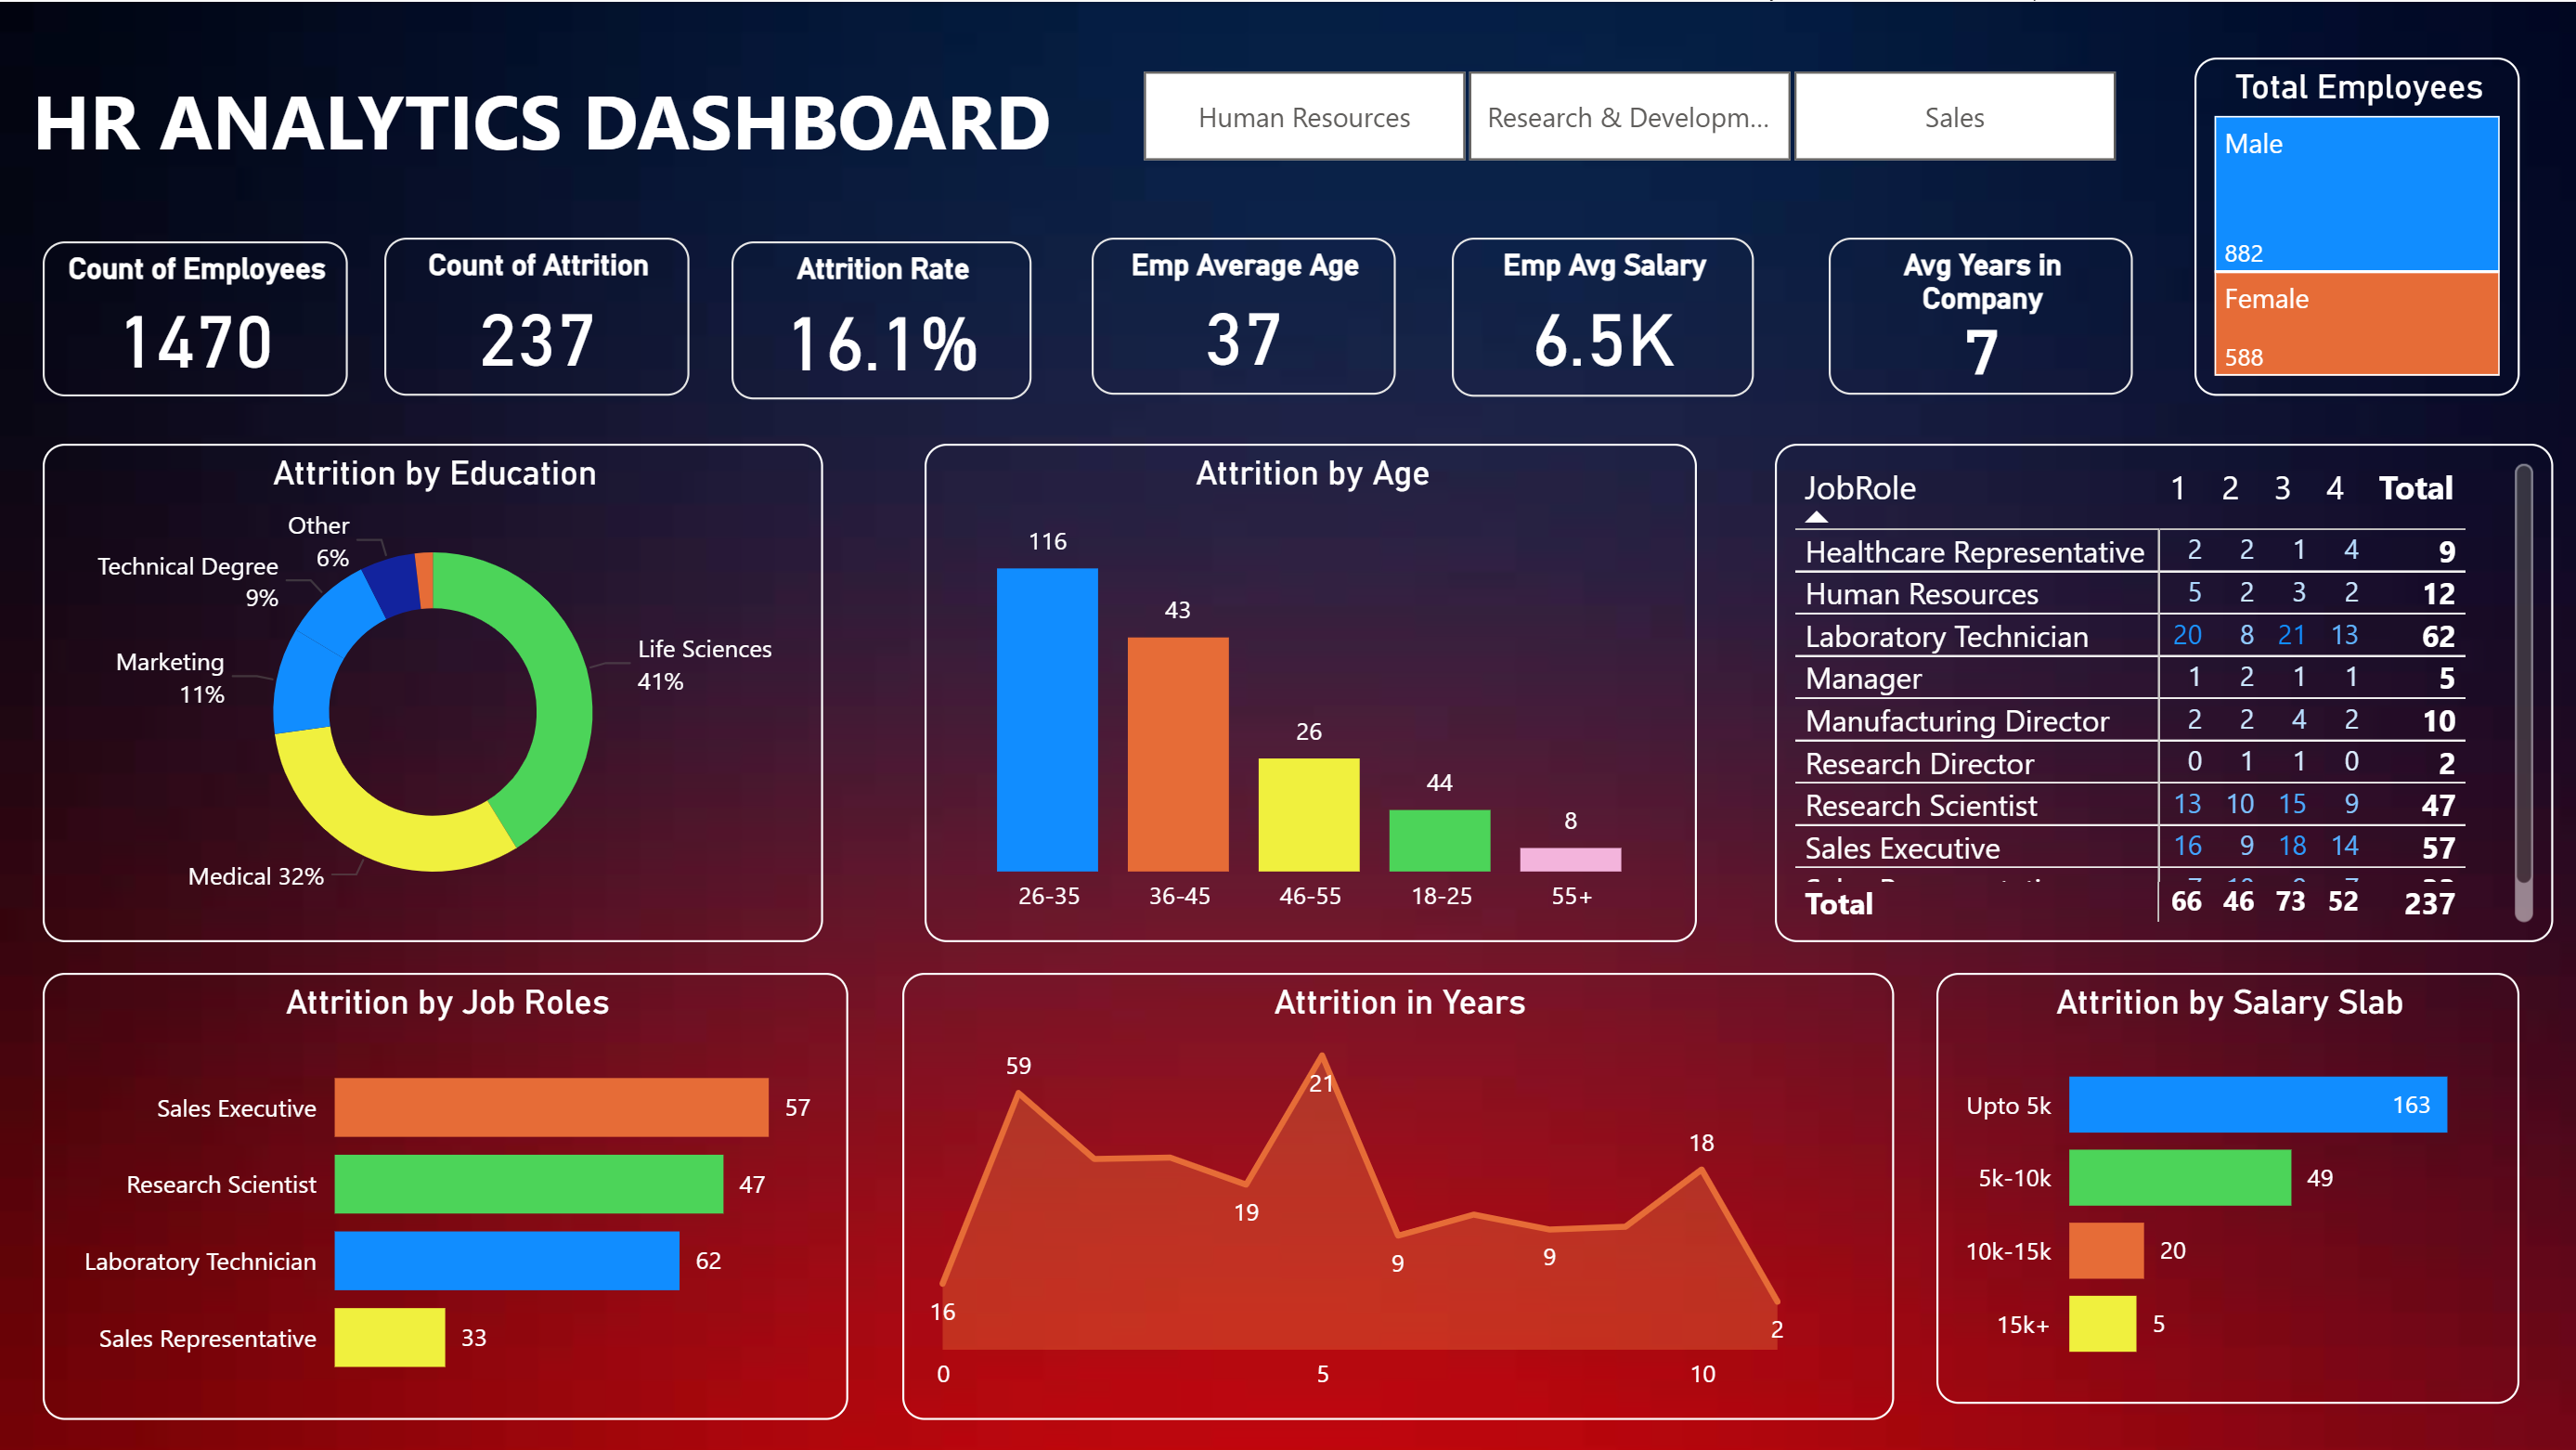

The page's visual inventory and layout, read from the dashboard file:
{"tool":"powerbi","page":{"name":"dashboard","canvas":[1280,720],"ordinal":0},"visuals":[{"type":"card","title":"Count of Employees","fields":{"Values":["CountNonNull(HR-Anlytics.EmpID)"]},"box":[21.5,118.7,151.5,77],"z":0},{"type":"card","title":"Count of Attrition","fields":{"Values":["Sum(HR_Analytics.AttritionCount)"]},"box":[190.6,117.4,151.5,78.3],"z":1000},{"type":"card","title":"Attrition Rate","fields":{"Values":["HR_Analytics.AttritionRate"]},"box":[363.6,118.7,149,78.3],"z":2000},{"type":"card","title":"Emp Average Age","fields":{"Values":["Avg(HR_Analytics.Age)"]},"box":[541.9,117,150.8,78],"z":3000},{"type":"card","title":"Emp Avg Salary","fields":{"Values":["Avg(HR_Analytics.MonthlyIncome)"]},"box":[720.7,117.2,150.1,79.2],"z":4000},{"type":"card","title":"Avg Years in Company","fields":{"Values":["Avg(HR_Analytics.YearsAtCompany)"]},"box":[907.8,117.2,151.1,78.1],"z":5000},{"type":"donutChart","title":"Attrition by Education","fields":{"Category":["HR_Analytics.EducationField"],"Y":["CountNonNull(HR_Analytics.AttritionCount)"]},"box":[21.5,219.6,387.5,247.4],"z":6000},{"type":"columnChart","title":"Attrition by Age","fields":{"Category":["HR_Analytics.AgeGroup"],"Y":["CountNonNull(HR_Analytics.AttritionCount)"]},"box":[459.5,219.6,383.7,247.4],"z":7000},{"type":"pivotTable","fields":{"Rows":["HR_Analytics.JobRole"],"Columns":["HR_Analytics.JobSatisfaction"],"Values":["Sum(HR_Analytics.AttritionCount)"]},"box":[881.1,219.6,386.3,247.4],"z":8000},{"type":"barChart","title":"Attrition by Salary Slab","fields":{"Category":["HR_Analytics.SalarySlab"],"Y":["CountNonNull(HR_Analytics.AttritionCount)"]},"box":[961.5,482.2,289.5,213.9],"z":9000},{"type":"barChart","title":"Attrition by Job Roles","fields":{"Y":["CountNonNull(HR_Analytics.AttritionCount)"],"Category":["HR_Analytics.JobRole"]},"box":[21.2,482.2,400.1,222.2],"z":10000},{"type":"areaChart","title":"Attrition in Years","fields":{"Category":["HR_Analytics.YearsAtCompany"],"Y":["CountNonNull(HR_Analytics.AttritionCount)"]},"box":[448,482.2,492.3,222.2],"z":11000},{"type":"treemap","title":"Total Employees","fields":{"Values":["CountNonNull(HR_Analytics.AttritionCount)"],"Group":["HR_Analytics.Gender"]},"box":[1089.4,27.8,161.6,167.9],"z":12000},{"type":"slicer","fields":{"Values":["HR_Analytics.Department"]},"box":[541.9,27.4,532.5,58],"z":13000},{"type":"textbox","box":[11.4,27.8,518.8,68.2],"z":14000}]}

Visuals, with their boxes in screenshot pixels (x1, y1, x2, y2), scaled from the page's 1280x720 canvas onto the 2576x1450 screenshot:
"Count of Employees" card: 44 240 348 395
"Count of Attrition" card: 383 237 689 395
"Attrition Rate" card: 731 240 1031 396
"Emp Average Age" card: 1091 236 1394 393
"Emp Avg Salary" card: 1450 236 1753 395
"Avg Years in Company" card: 1827 236 2131 394
"Attrition by Education" donutChart: 44 442 823 940
"Attrition by Age" columnChart: 925 442 1697 940
pivotTable - HR_Analytics.JobRole x HR_Analytics.JobSatisfaction: 1773 442 2551 940
"Attrition by Salary Slab" barChart: 1935 971 2518 1402
"Attrition by Job Roles" barChart: 43 971 848 1418
"Attrition in Years" areaChart: 901 971 1893 1418
"Total Employees" treemap: 2193 56 2518 395
slicer - HR_Analytics.Department: 1091 55 2162 172
textbox: 23 56 1067 193
